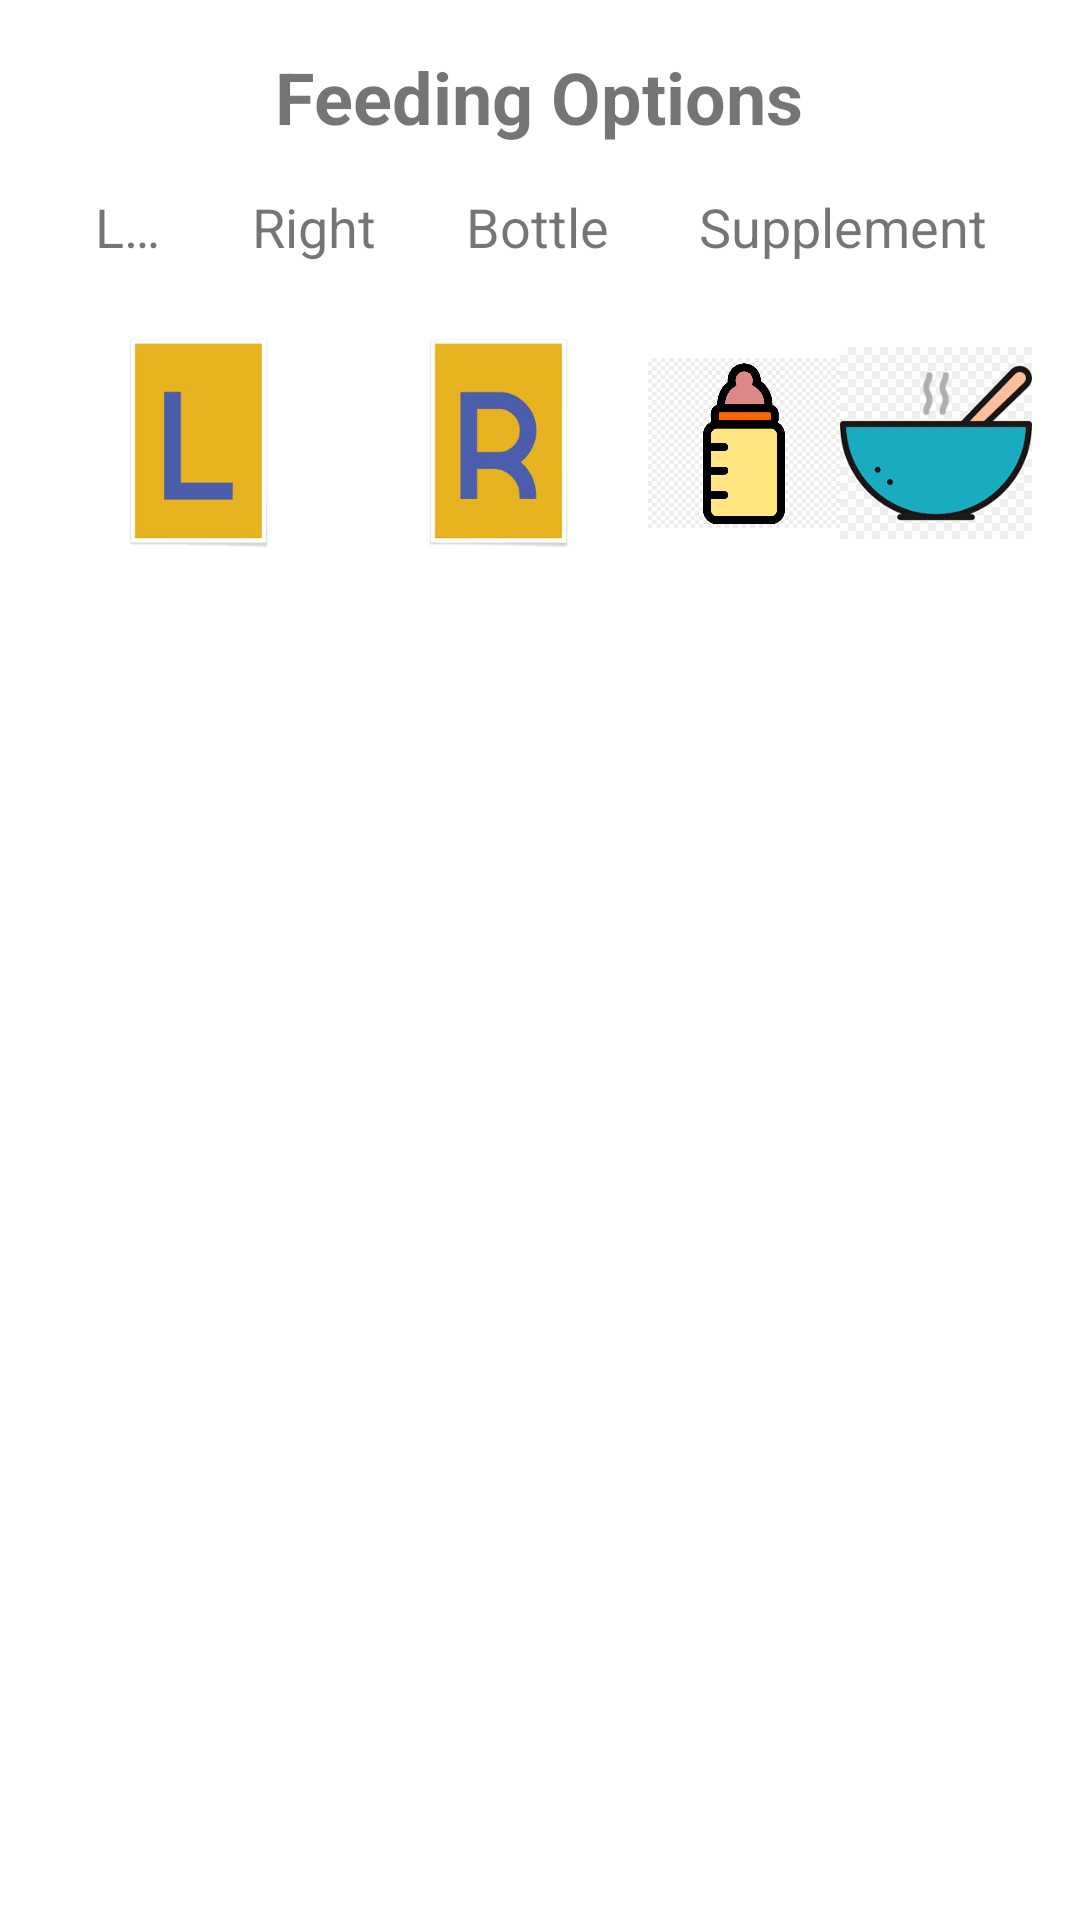

Icons on this 1080 x 1920 Android screen, each with the point to tap as (x=x, y=y):
meal button: (x=936, y=443)
